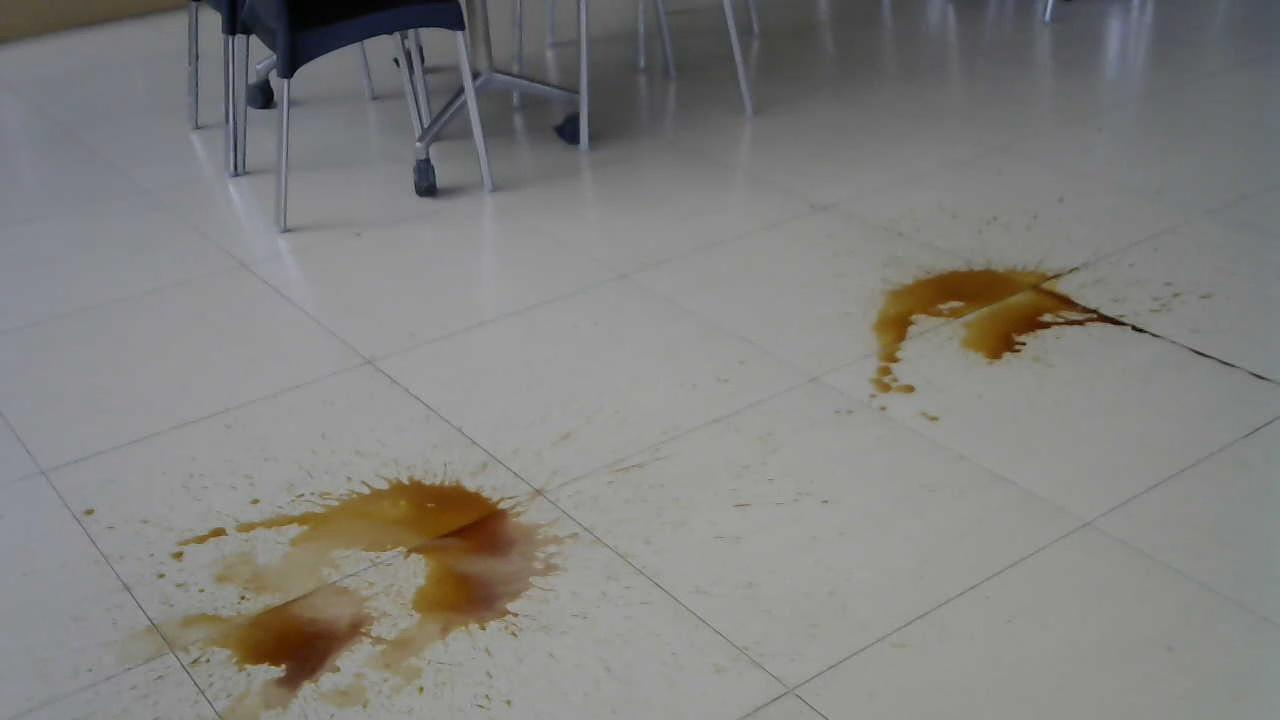dirty_floor: (155, 450, 590, 700), (860, 250, 1153, 405)
